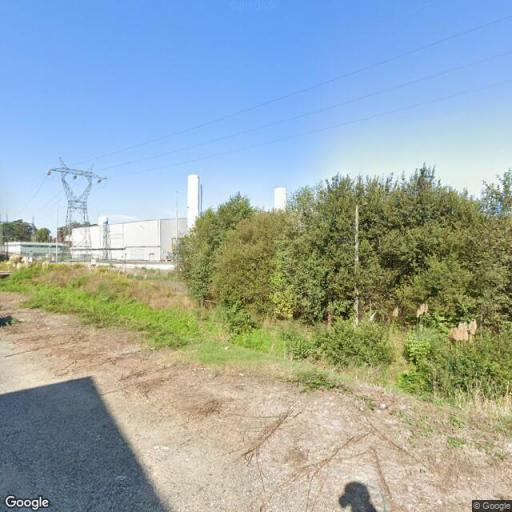wt_5: (47, 155, 108, 269)
